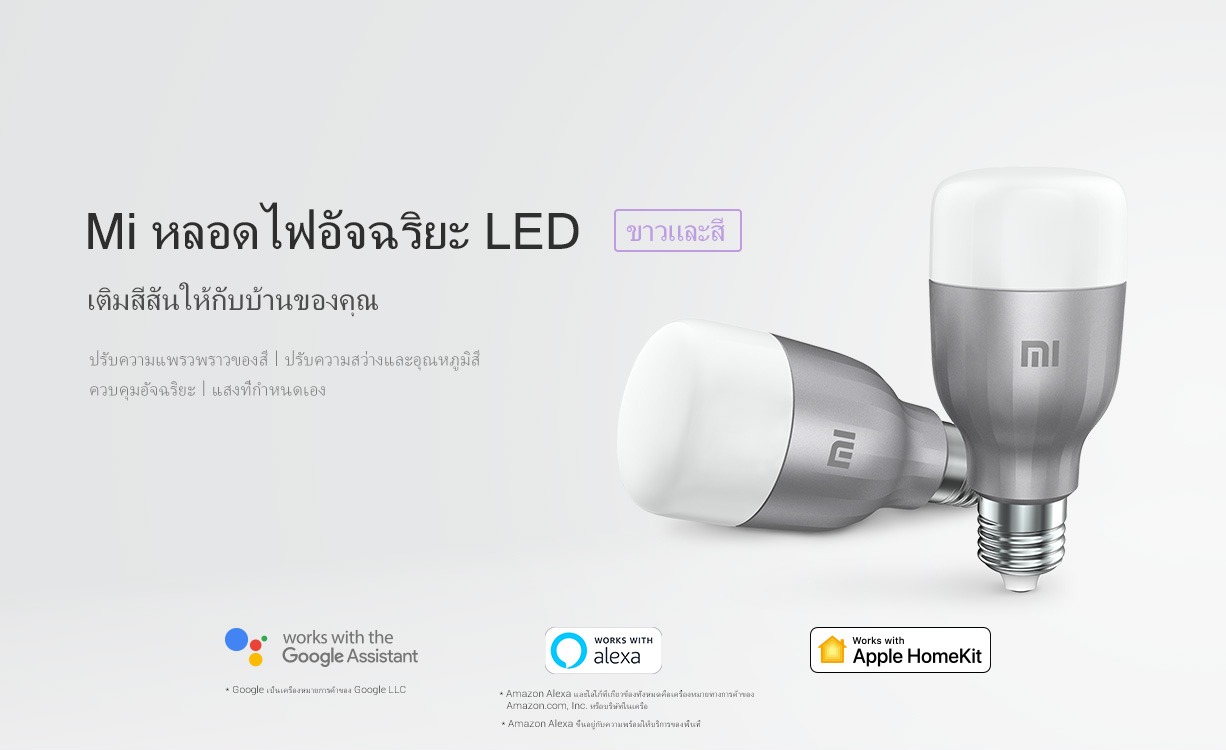Light_bulb: (594, 286, 972, 550), (916, 152, 1136, 596)
